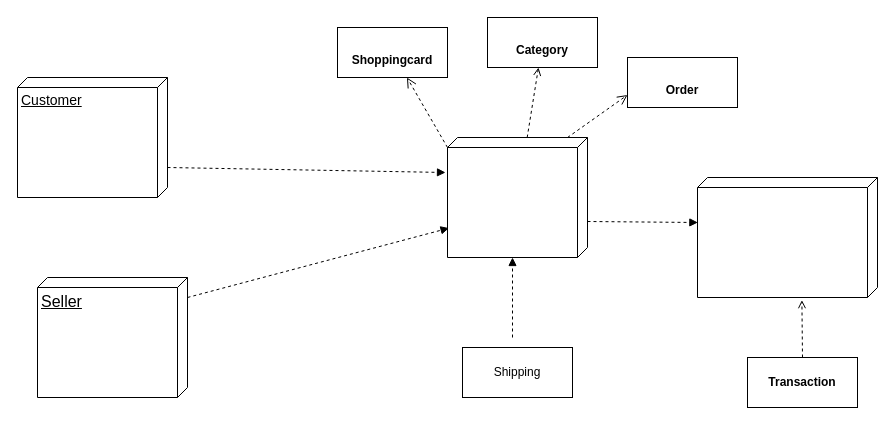
This 895x425 diagram has some shape labels left out. Each missing label, with the box of its shape:
Payment: (696, 176, 878, 298)
Product: (446, 136, 588, 258)
